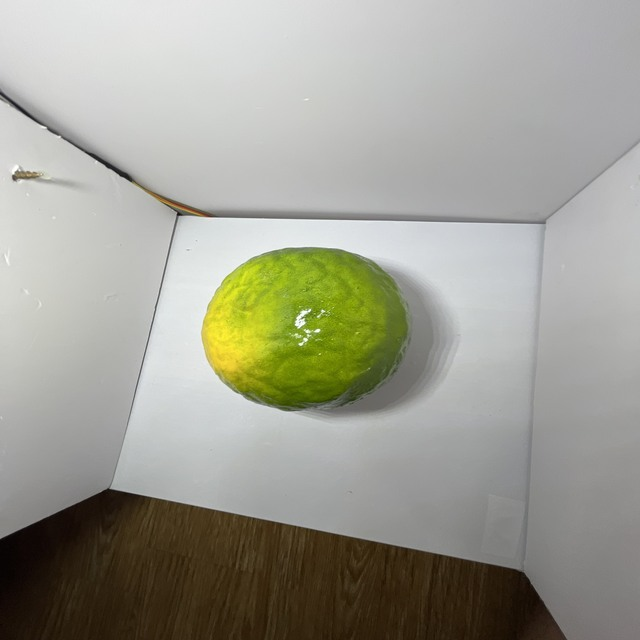Cam xanh: (198, 244, 414, 419)
